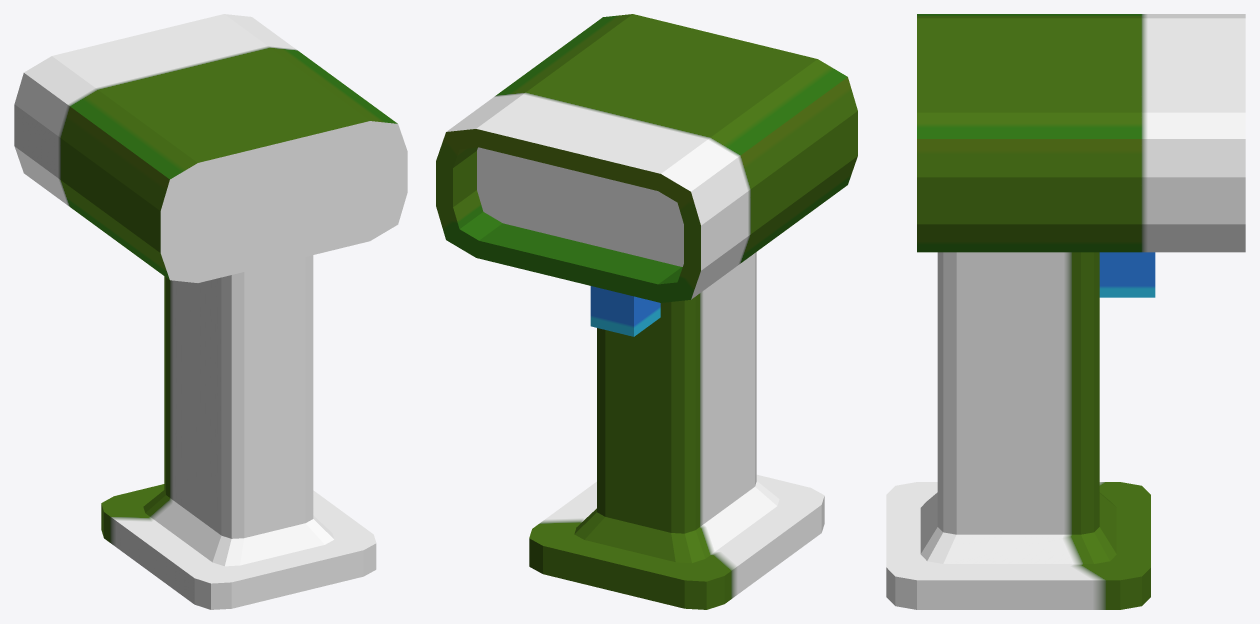
File: Scaner.fbx
3 views of the same model, side by side, from view 1: azimuth 30°, elevation 25°; view 2: azimuth 150°, elevation 25°; view 3: azimuth 270°, elevation 25° (orthographic). The views are drawn at different scales.
Parts seen in each view (by area): view 1: Scaner; view 2: Scaner; view 3: Scaner.
Boxes of the visible parts, left/top/right/bottom form: Scaner: left=14, top=14, right=407, bottom=609; Scaner: left=436, top=14, right=857, bottom=609; Scaner: left=886, top=14, right=1245, bottom=609.
Bounding box in the file's own units: 15.5 × 26.44 × 17.38.
